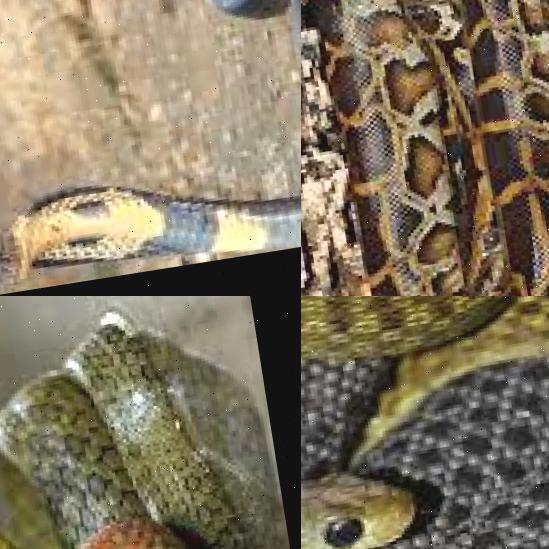snake: (0, 0, 301, 296), (301, 0, 549, 296), (0, 314, 301, 549), (301, 296, 549, 549)
